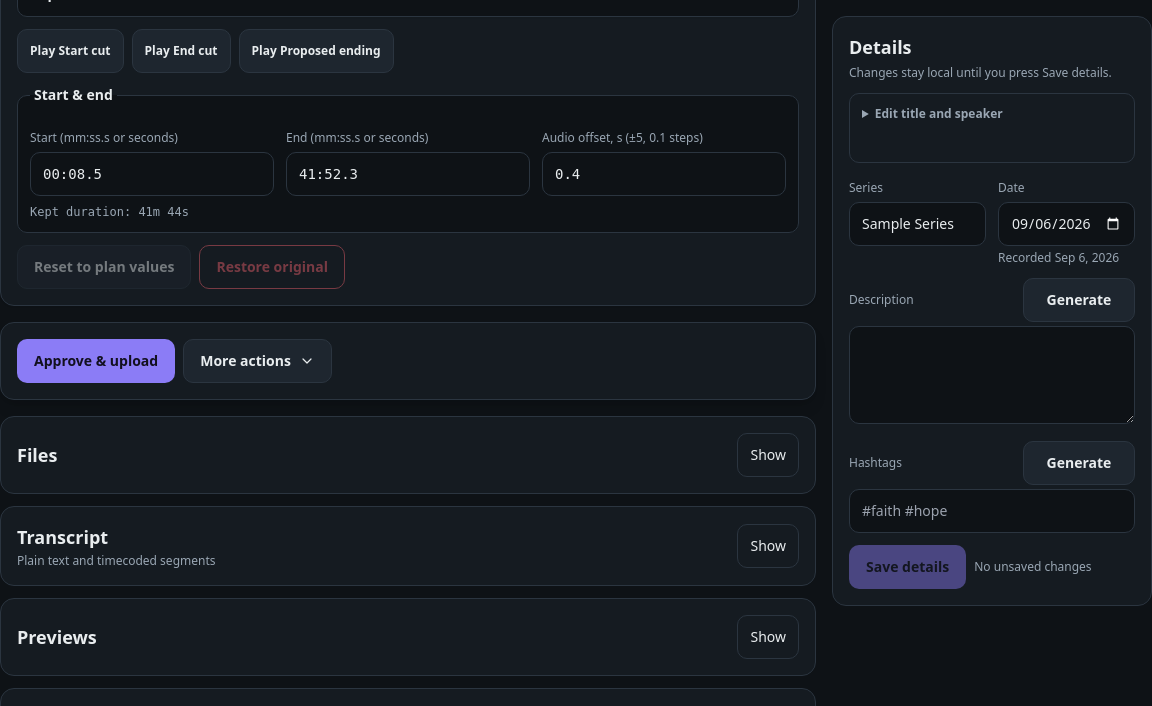
Test: SermonReview mobile layout › keeps one primary action and every secondary action behind More actions
This screenshot has width=1152, height=706.
(page scrolled)
Expected: the button "Approve & upload" is shown, [17,338,175,382]
Expected: the button "Reject with notes" is not shown
What coordinates should you click on to do the following:
click the button "More actions"
I would click on:
 (258, 360)
Its box is [183,338,332,382].
(page scrolled)
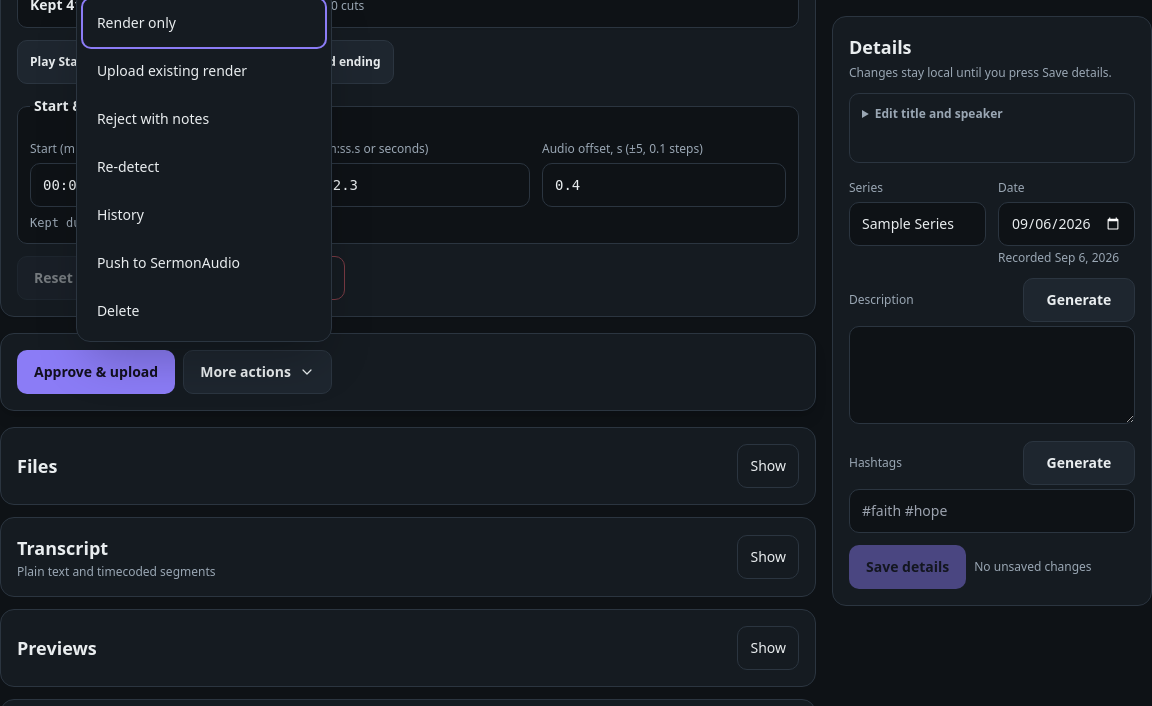
Expected: the menu item "Render only" is shown, [85,0,323,44]
Expected: the menu item "Upload existing render" is shown, [85,48,323,92]
Expected: the menu item "Reject with notes" is shown, [85,96,323,140]
